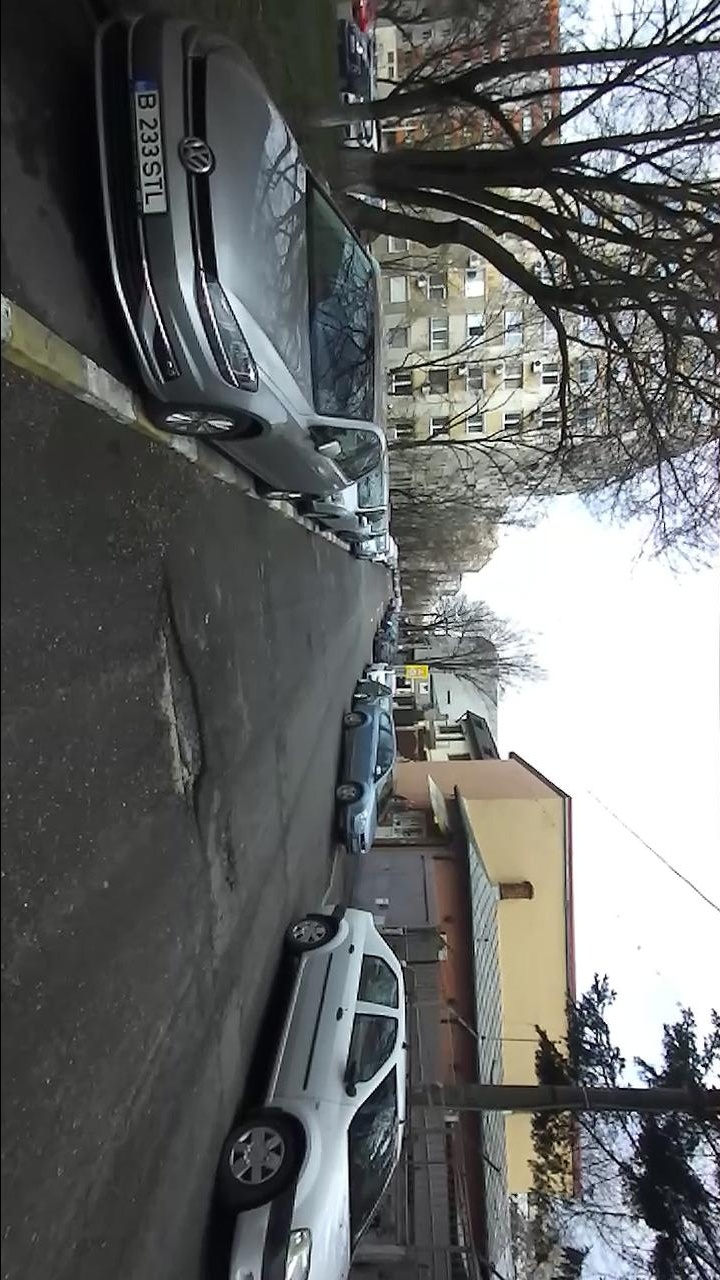pothole: (145, 574, 210, 835), (215, 815, 244, 896), (255, 559, 267, 584)
